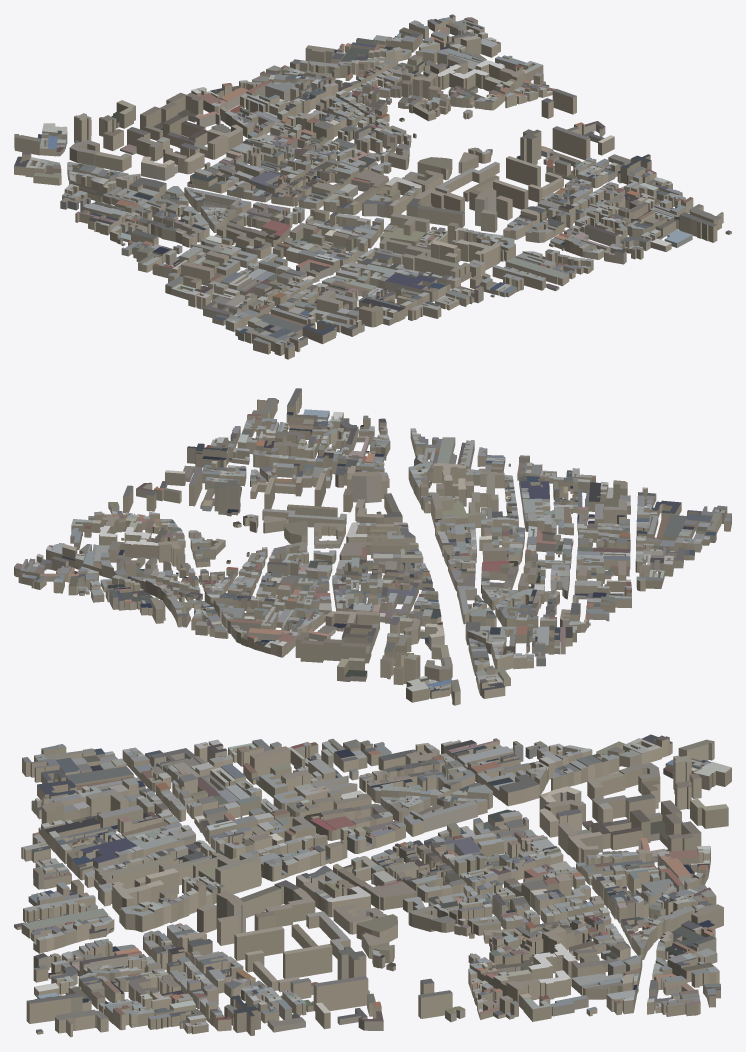
3 renders of one model, top to bottom at view 1: azimuth 30°, elevation 25°; view 2: azimuth 150°, elevation 25°; view 3: azimuth 270°, elevation 25°, orthographic. The views are drawn at different scales.
Parts seen in each view (by area): view 1: tuile; view 2: tuile; view 3: tuile.
Boxes of the visible parts, <box> form: tuile: <box>14,14,731,359</box>; tuile: <box>14,388,731,705</box>; tuile: <box>14,734,731,1037</box>.
Bounding box in the file's own units: 1041 × 87.13 × 1056.
